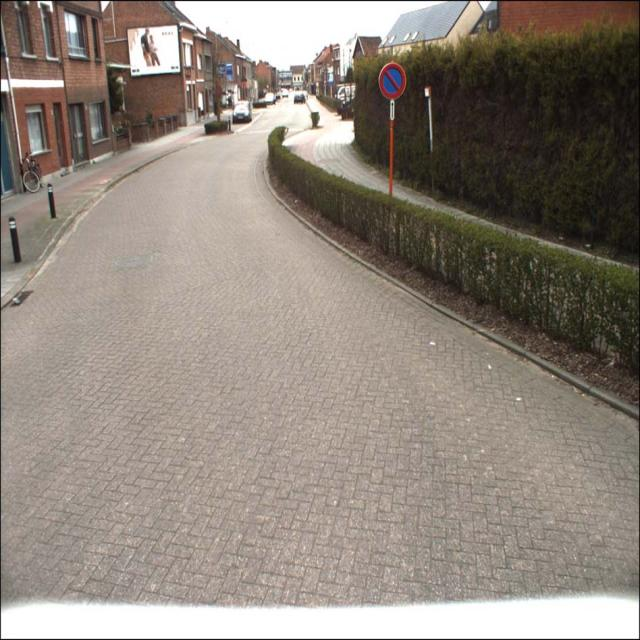parkyasak: (378, 61, 406, 100)
